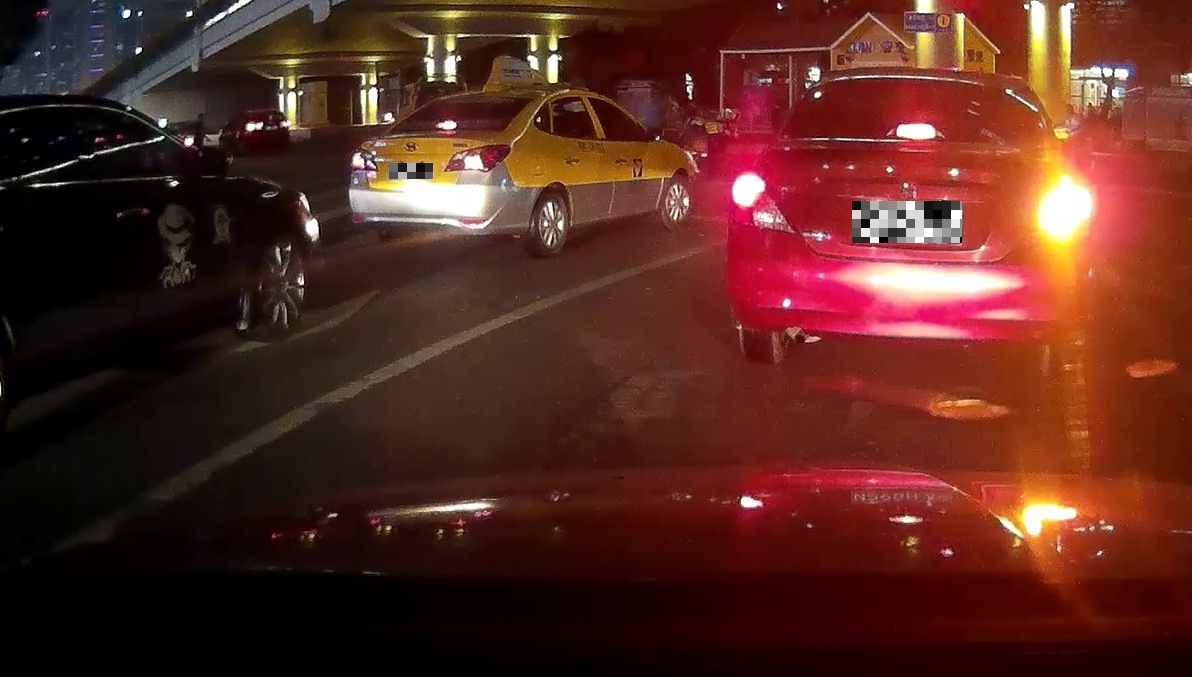L_light: (728, 174, 796, 235), (350, 146, 378, 172)
R_light: (1028, 178, 1085, 241), (443, 143, 511, 173)
T_light: (885, 123, 945, 140), (433, 121, 458, 130)
night-brake: (346, 86, 541, 258)
night-right: (724, 65, 1091, 377)
plate_1: (389, 163, 433, 179)
plate_2: (852, 201, 962, 243)
